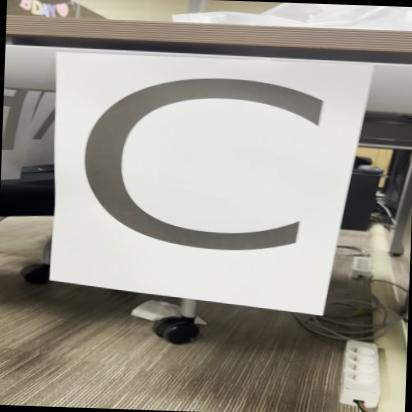seat: (62, 50, 334, 303)
